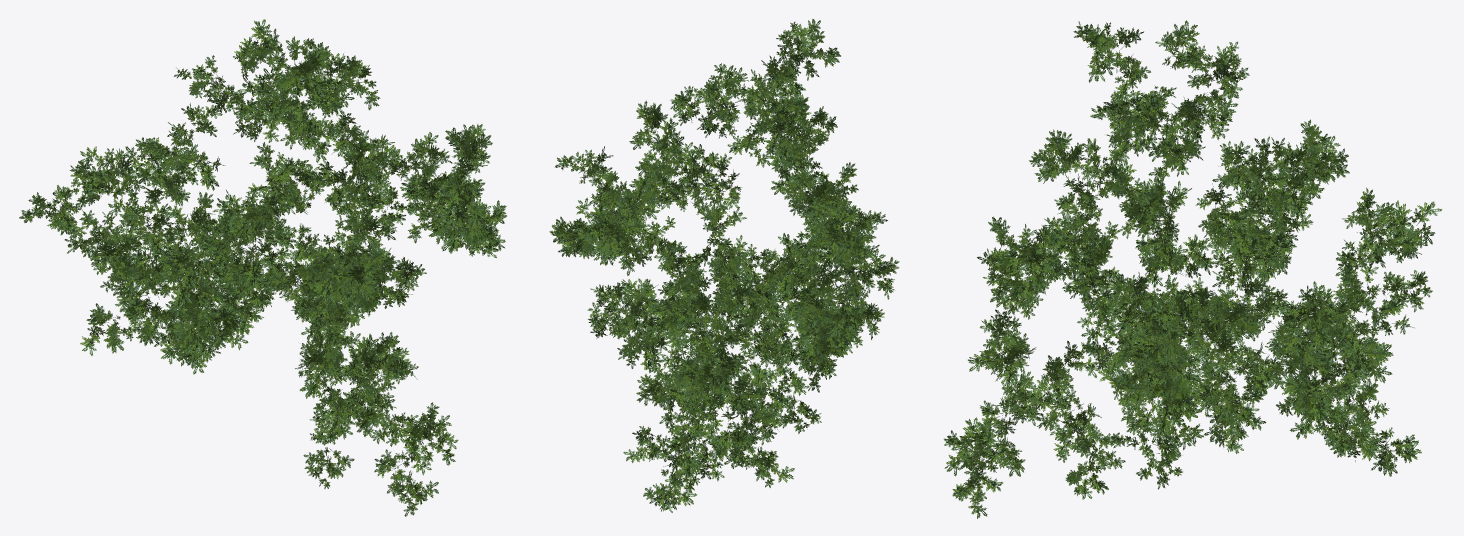
File: ash_medium_leaves.glb
3 renders of one model, left to right at view 1: azimuth 30°, elevation 25°; view 2: azimuth 150°, elevation 25°; view 3: azimuth 270°, elevation 25°, orthographic. The views are drawn at different scales.
Visible parts, largest first — view 1: Tree; view 2: Tree; view 3: Tree.
Part boxes in pixels (bbox=[...]): Tree: bbox=[19, 19, 506, 516]; Tree: bbox=[549, 19, 899, 512]; Tree: bbox=[944, 20, 1442, 518].
Size of the model in its own units: 1.85 by 1.85 by 1.8.
Materials: 1 (1 with a texture image).
